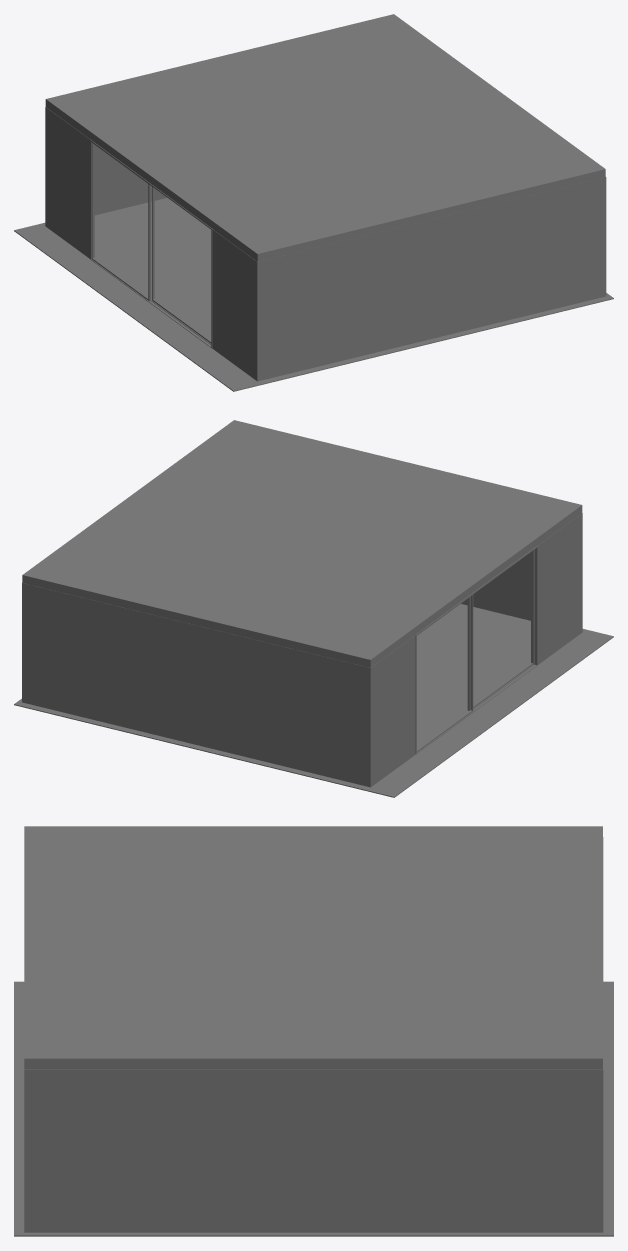
Rendered from room.glb.
The picture shows the model from 3 angles, top to bottom: view 1: azimuth 30°, elevation 25°; view 2: azimuth 150°, elevation 25°; view 3: azimuth 270°, elevation 25°; orthographic projection. The views are drawn at different scales.
Visible parts, largest first — view 1: node_id24, mesh_id13, node_id6, mesh_id9, mesh_id17, mesh_id11, node_id18, node_id22, node_id20; view 2: node_id24, mesh_id11, node_id6, mesh_id17, mesh_id9, mesh_id13, node_id18, node_id20, node_id22; view 3: node_id24, mesh_id15, node_id6.
Boxes of the visible parts, box(x1,y1,x2,y2) form: node_id24: box(45, 14, 605, 261); mesh_id13: box(261, 177, 603, 380); node_id6: box(14, 198, 613, 391); mesh_id9: box(212, 229, 260, 381); mesh_id17: box(45, 107, 90, 258); mesh_id11: box(94, 145, 167, 215); node_id18: box(90, 139, 212, 348); node_id22: box(91, 142, 151, 301); node_id20: box(152, 186, 211, 343); node_id24: box(22, 420, 582, 667); mesh_id11: box(24, 583, 367, 786); node_id6: box(14, 604, 613, 797); mesh_id17: box(367, 635, 415, 787); mesh_id9: box(538, 513, 582, 664); mesh_id13: box(461, 552, 530, 620); node_id18: box(415, 545, 537, 754); node_id20: box(467, 551, 533, 710); node_id22: box(417, 595, 473, 752); node_id24: box(24, 826, 602, 1069); mesh_id15: box(24, 1068, 603, 1232); node_id6: box(14, 981, 613, 1236).
Bounding box in the file's own units: 0.512 × 0.1649 × 0.512.
Materials: 20 (20 with a texture image).
